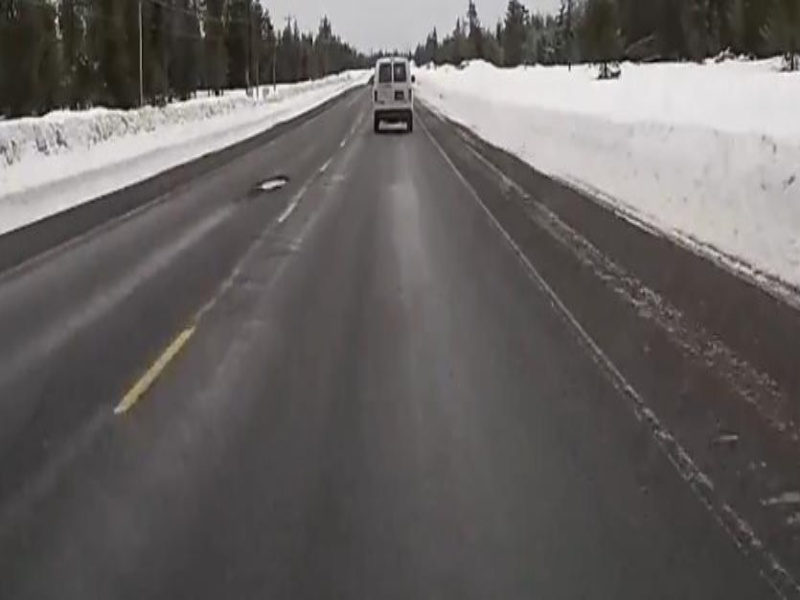pothole: (253, 173, 290, 192)
